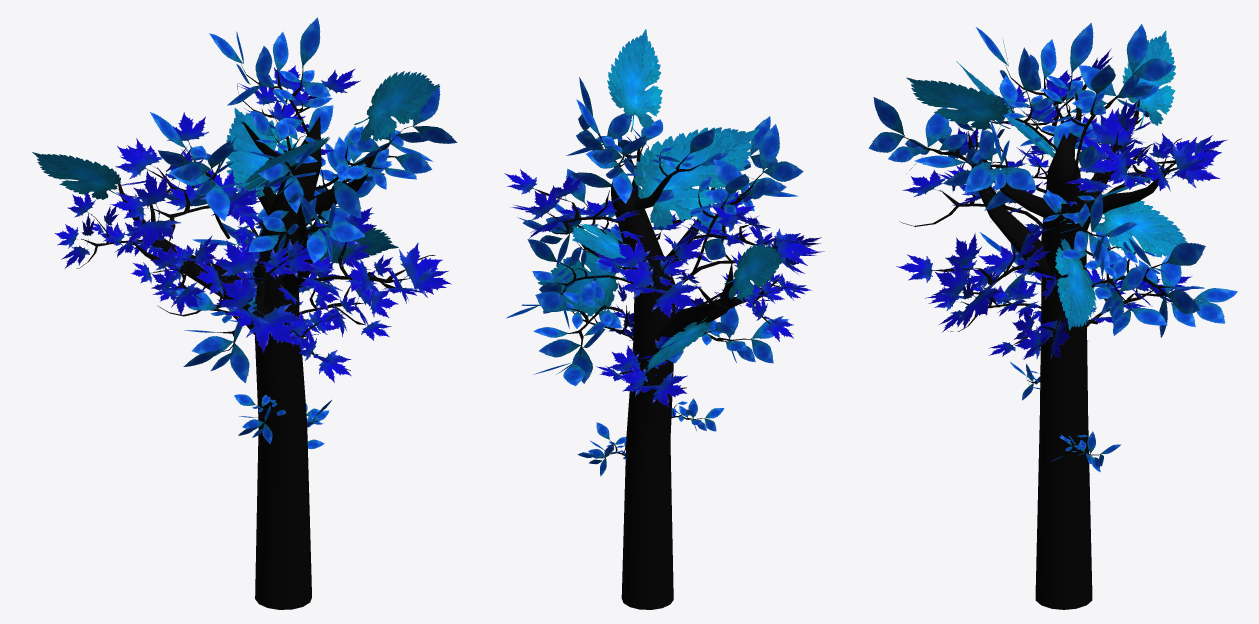
File: bluetree5.fbx
3 renders of one model, left to right at view 1: azimuth 30°, elevation 25°; view 2: azimuth 150°, elevation 25°; view 3: azimuth 270°, elevation 25°, orthographic. The views are drawn at different scales.
Parts seen in each view (by area): view 1: purpletrees:pCylinder171; view 2: purpletrees:pCylinder171; view 3: purpletrees:pCylinder171.
Boxes of the visible parts, left/top/right/bottom form: purpletrees:pCylinder171: left=32, top=17, right=457, bottom=609; purpletrees:pCylinder171: left=504, top=29, right=824, bottom=609; purpletrees:pCylinder171: left=868, top=22, right=1237, bottom=609.
Size of the model in its own units: 29.66 by 47.67 by 28.43.
